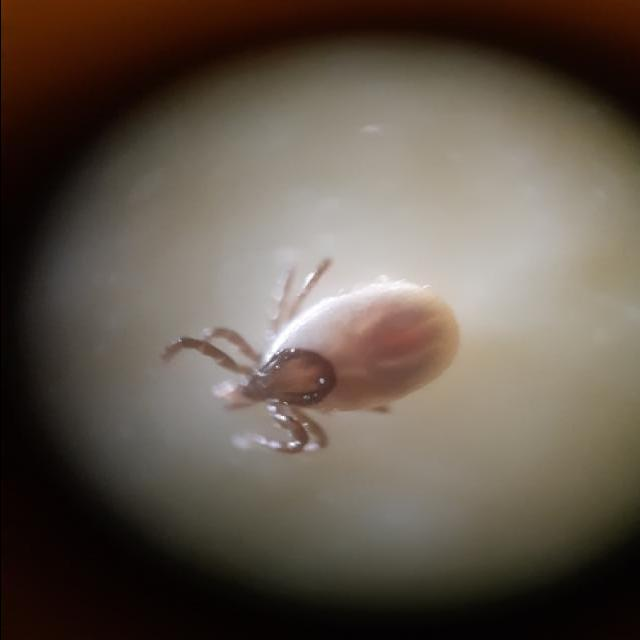Ixodes Ricinus-F-Fed: (160, 259, 464, 456)
